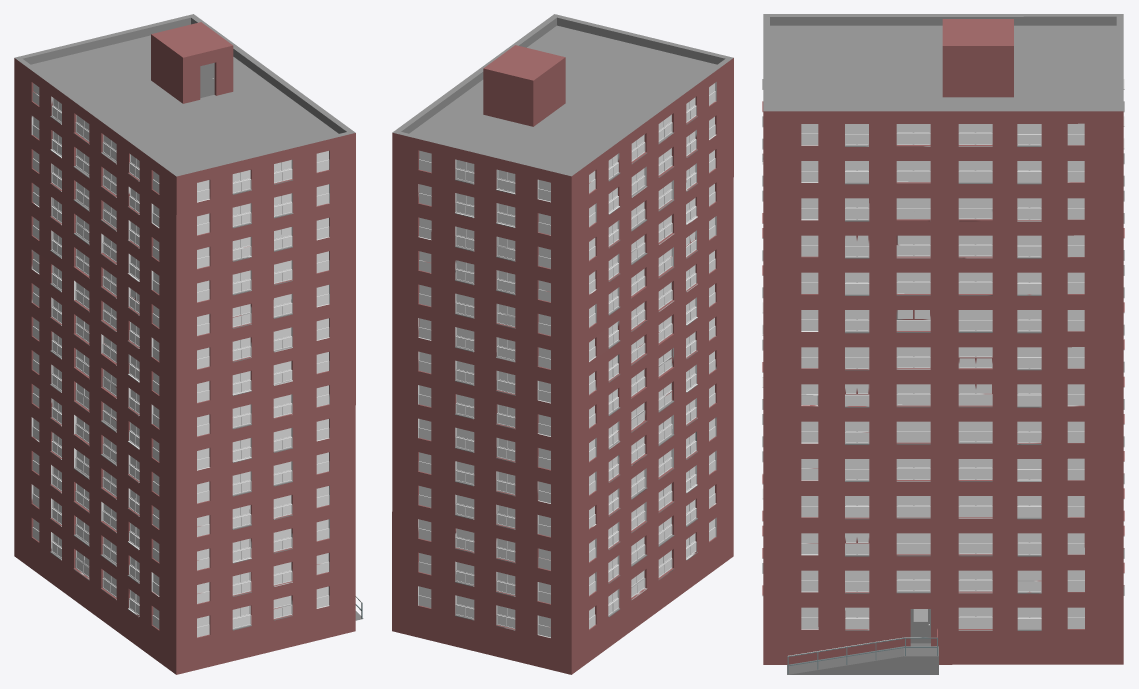
File: Building_J.fbx
The picture shows the model from 3 angles, left to right: view 1: azimuth 30°, elevation 25°; view 2: azimuth 150°, elevation 25°; view 3: azimuth 270°, elevation 25°; orthographic projection. The views are drawn at different scales.
Parts seen in each view (by area): view 1: Building_J; view 2: Building_J; view 3: Building_J.
Boxes of the visible parts, x1,y1,x2,y2 form: Building_J: (14, 14, 363, 674); Building_J: (392, 14, 733, 674); Building_J: (762, 14, 1124, 674).
Bounding box in the file's own units: 1243 × 3204 × 1766.
Materials: 1 (1 with a texture image).
